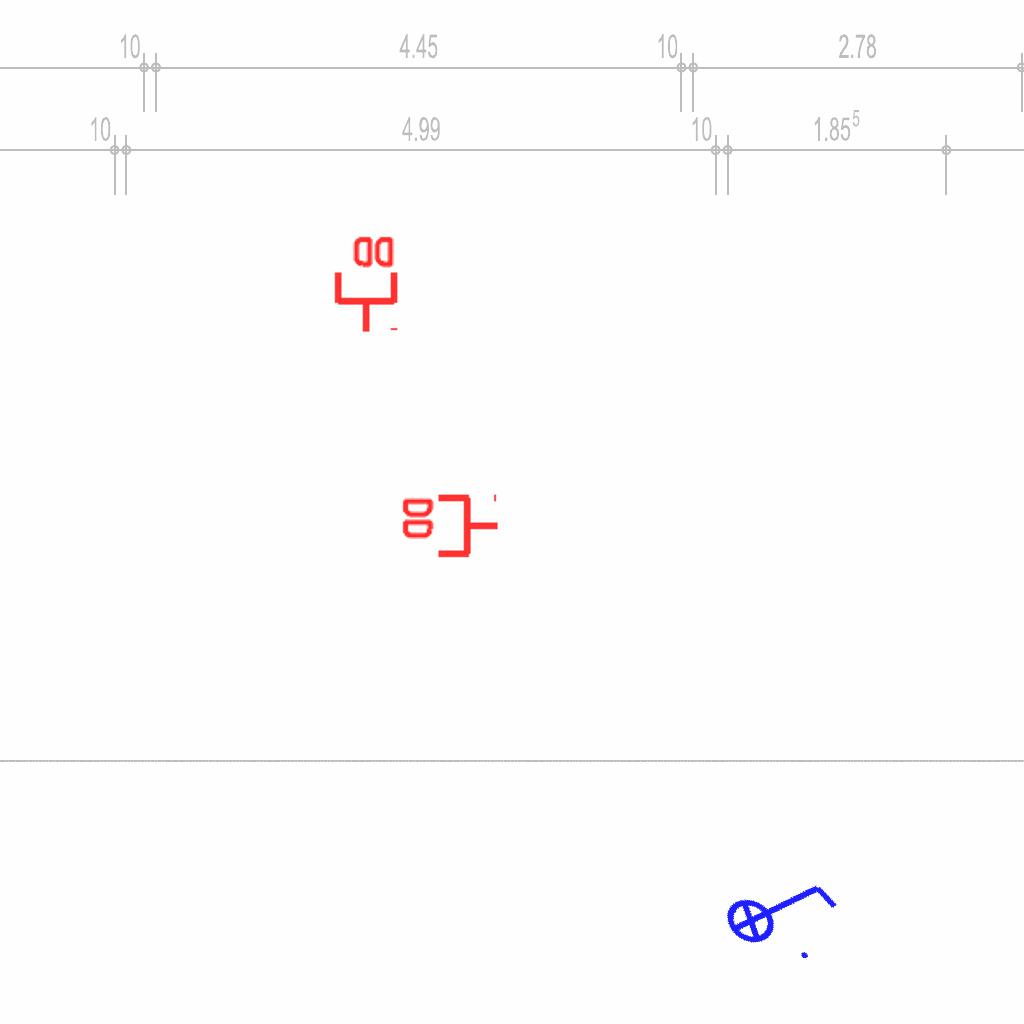Ausschalter_beleuchtet: (706, 837, 852, 979)
Datenanschluss_zweifach: (330, 232, 399, 335), (398, 493, 501, 562)
